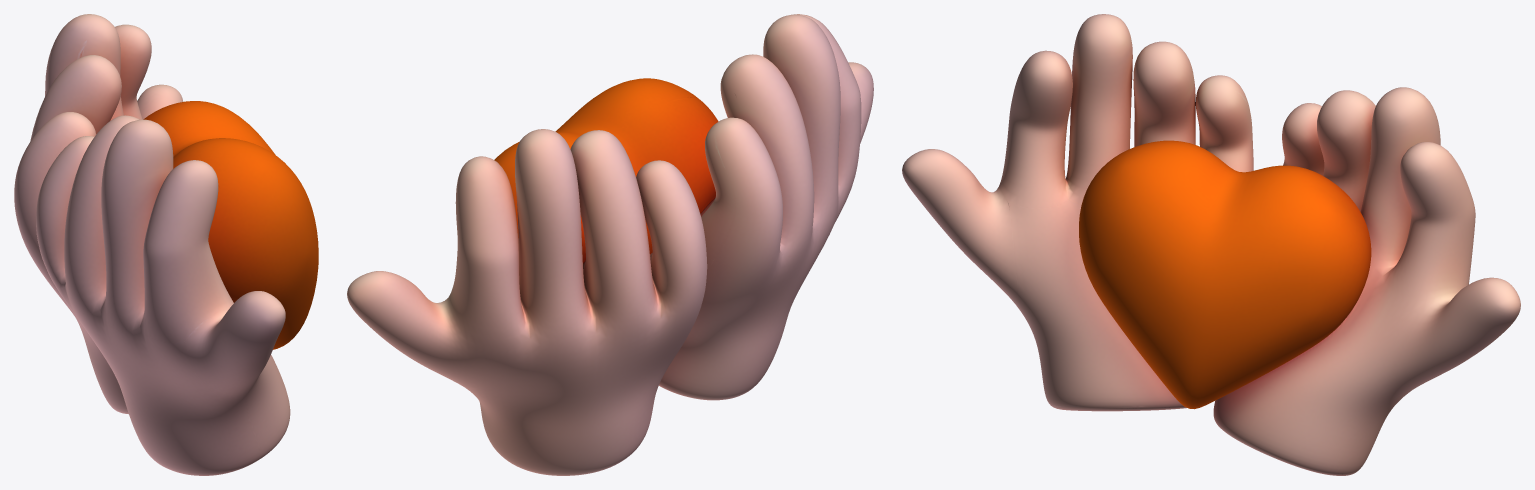
Rendered from heart.glb.
3 views of the same model, side by side, from view 1: azimuth 30°, elevation 25°; view 2: azimuth 150°, elevation 25°; view 3: azimuth 270°, elevation 25° (orthographic). The views are drawn at different scales.
Visible parts, largest first — view 1: heart; view 2: heart; view 3: heart.
Part boxes in pixels (x1,y1,x2,y2): heart: [14, 14, 318, 475]; heart: [347, 14, 873, 475]; heart: [902, 14, 1520, 475].
Bounding box in the file's own units: 0.5147 × 0.6752 × 0.9774.
2 materials, 2 textured.
